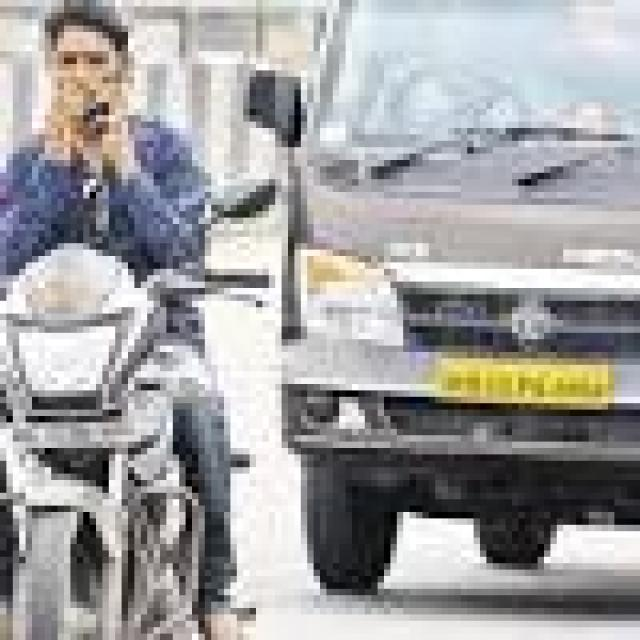Not Wearing Helmet: (43, 0, 123, 128)
Usage Of Phone While Riding: (17, 30, 211, 182)
